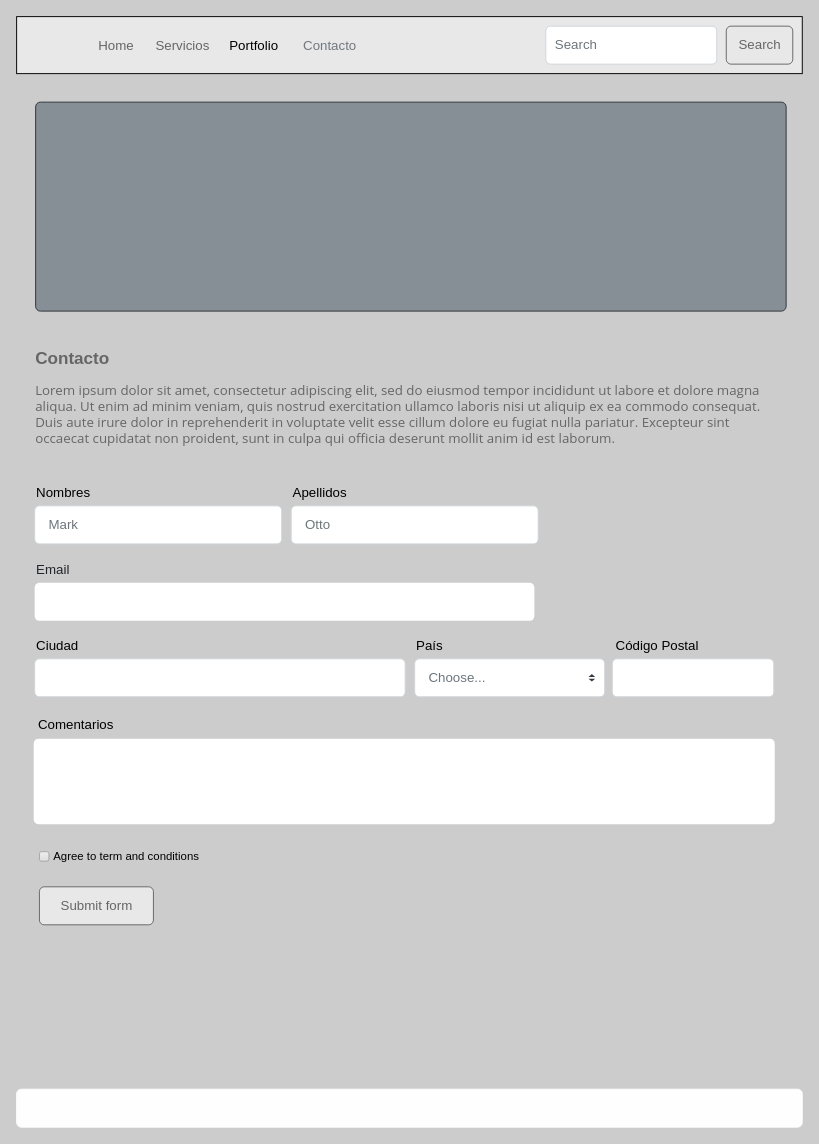
Image size: 819x1144. Some labels were removed from this diagram. The box of each missing label's shape, as (x1, y1, x2, y2) in pixels:
Card Image: (35, 101, 786, 311)
Footer: (16, 1088, 802, 1127)
Logo: (16, 16, 802, 74)
